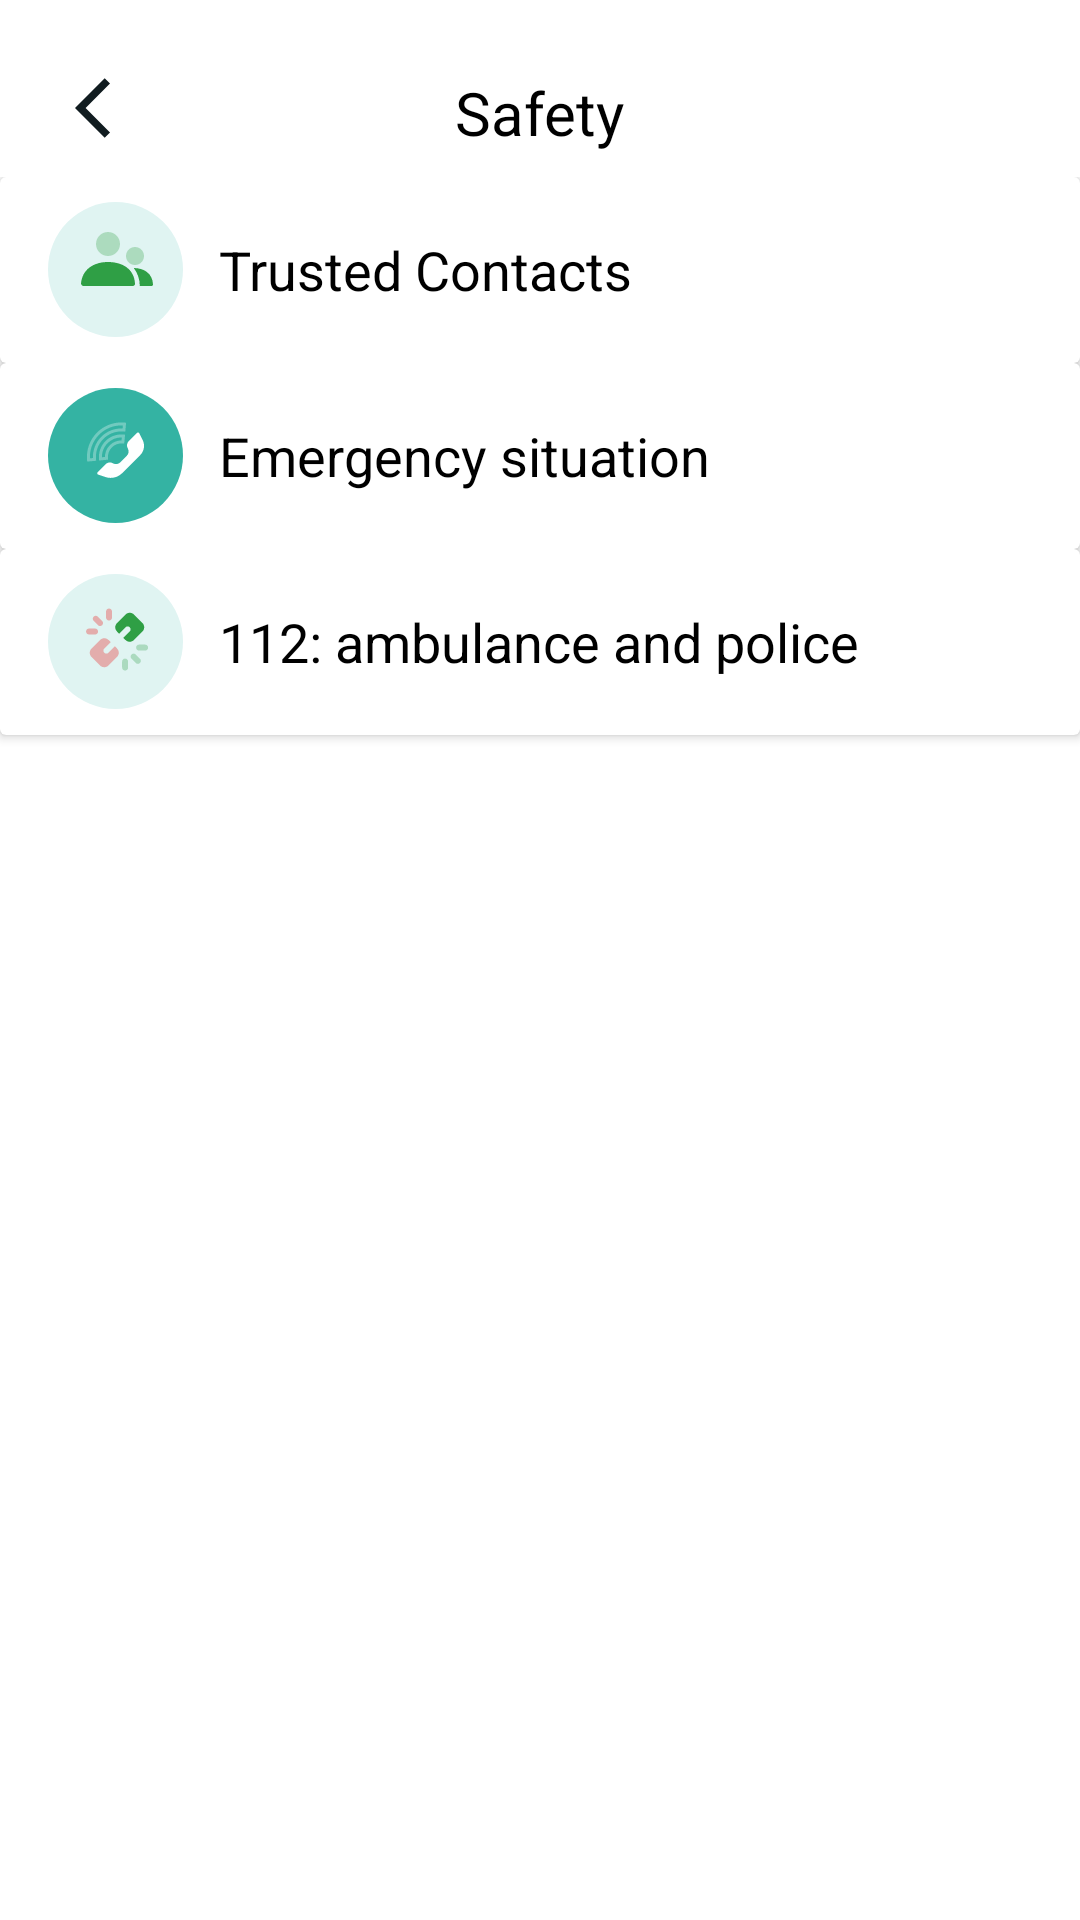

Where to tap for icons on this 1080w x 1920h app screen, as [x,y]:
back: [92,108]
safety call: [115,455]
